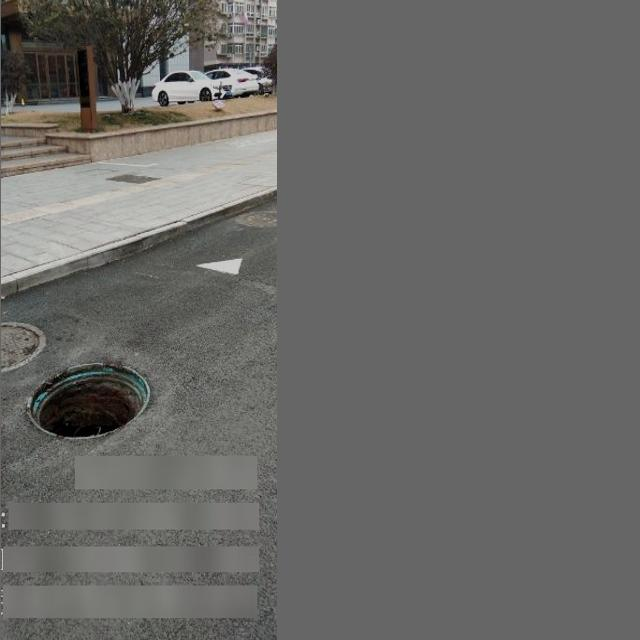lose: (27, 361, 152, 441)
